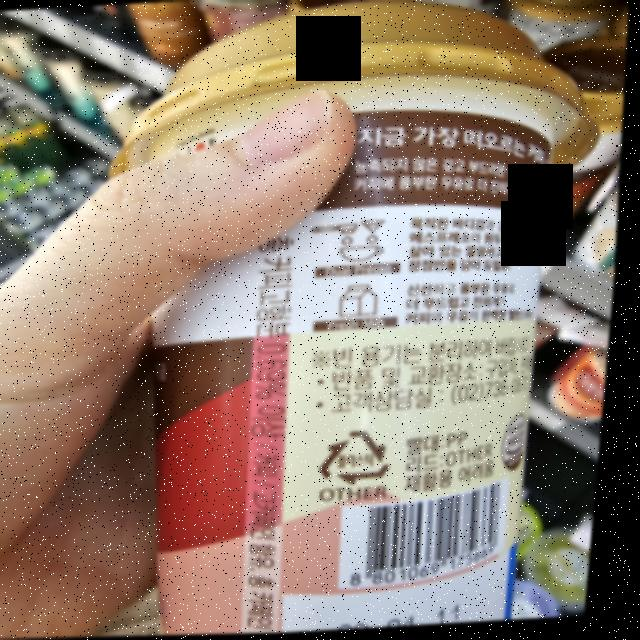Plastic: (323, 427, 404, 489)
